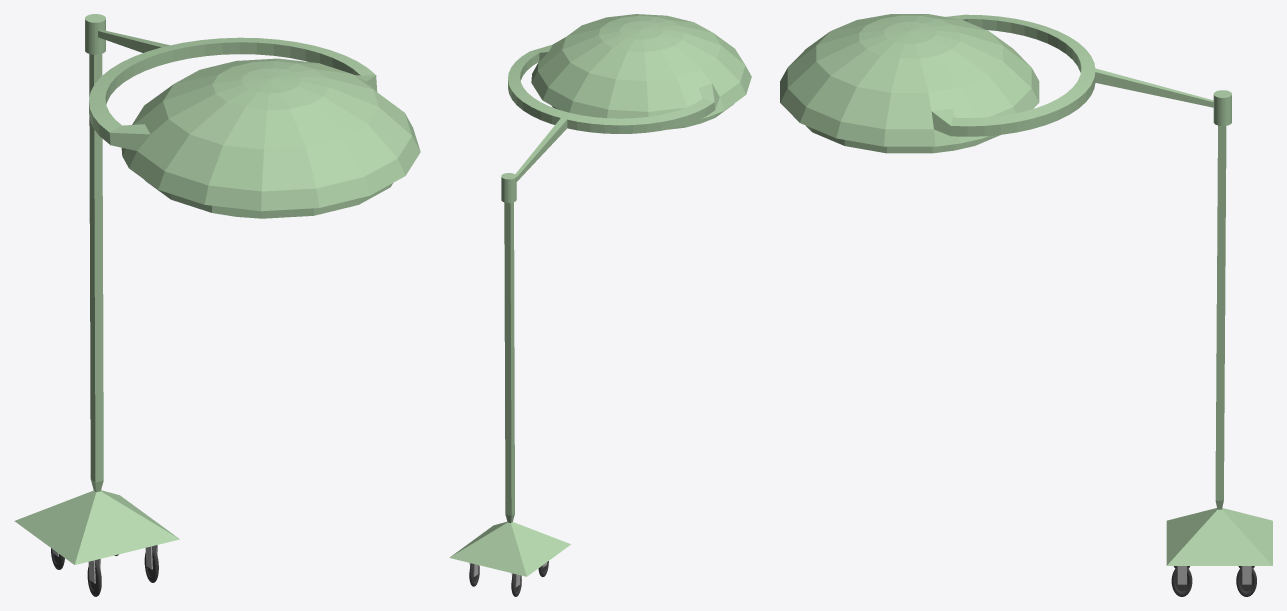
The model's file is Light.fbx.
3 renders of one model, left to right at view 1: azimuth 30°, elevation 25°; view 2: azimuth 150°, elevation 25°; view 3: azimuth 270°, elevation 25°, orthographic. The views are drawn at different scales.
Visible parts, largest first — view 1: Light; view 2: Light; view 3: Light.
Boxes of the visible parts, x1=… form: Light: x1=14, y1=14, x2=420, y2=596; Light: x1=449, y1=14, x2=751, y2=596; Light: x1=780, y1=14, x2=1272, y2=596.
Size of the model in its own units: 0.6092 by 1.4 by 1.14.
